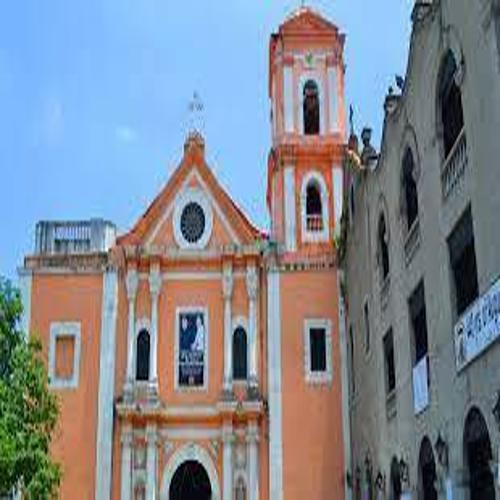San Agustin Church: (105, 2, 354, 497)
